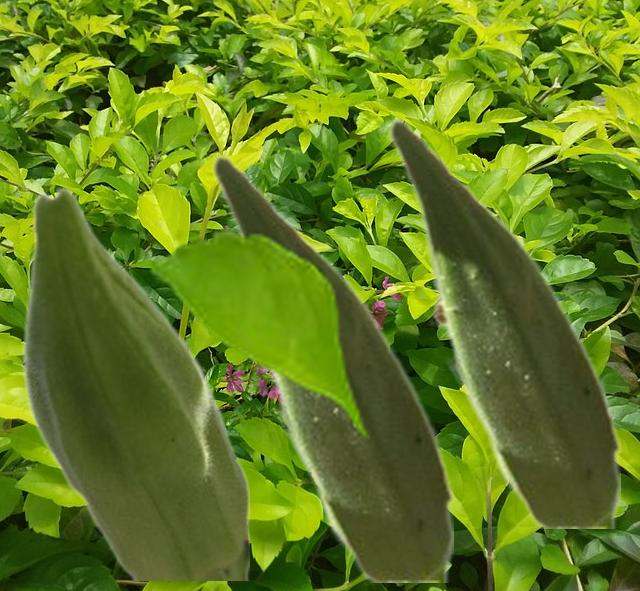okra: (210, 152, 452, 581), (387, 116, 619, 527), (21, 186, 248, 579)
